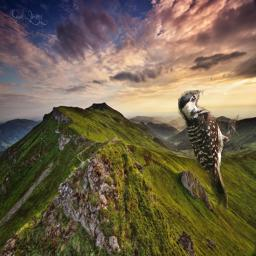Woodpecker: (178, 90, 239, 211)
